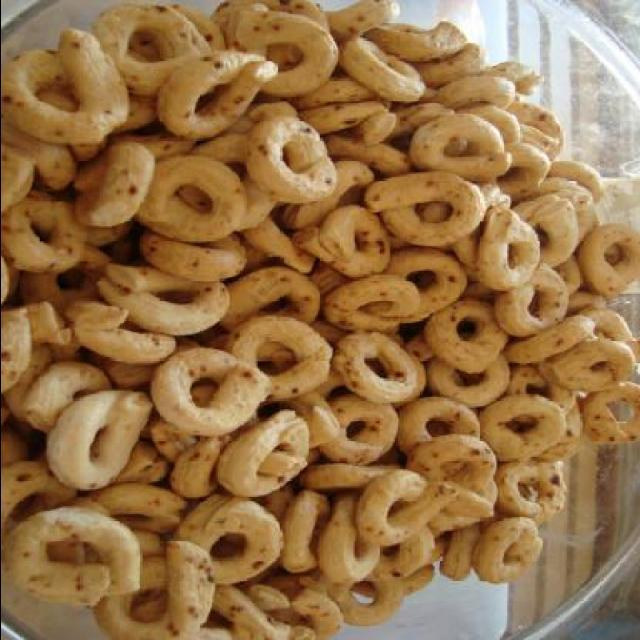Taralli: (35, 16, 627, 633)
